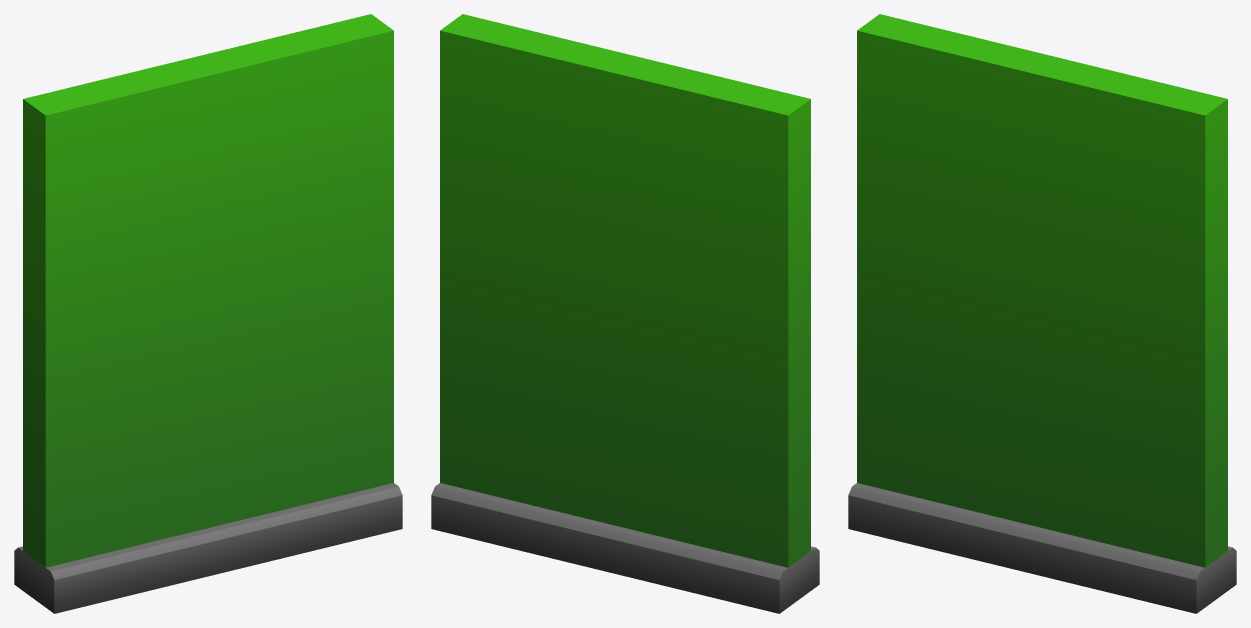
Rendered from Wall_01_D.fbx.
3 views of the same model, side by side, from view 1: azimuth 30°, elevation 25°; view 2: azimuth 150°, elevation 25°; view 3: azimuth 330°, elevation 25° (orthographic).
Visible parts, largest first — view 1: Wall_01; view 2: Wall_01; view 3: Wall_01.
Boxes of the visible parts, x1,y1,x2,y2 form: Wall_01: (14, 14, 402, 613); Wall_01: (431, 14, 819, 613); Wall_01: (848, 14, 1236, 613).
Bounding box in the file's own units: 200 × 270 × 40.
